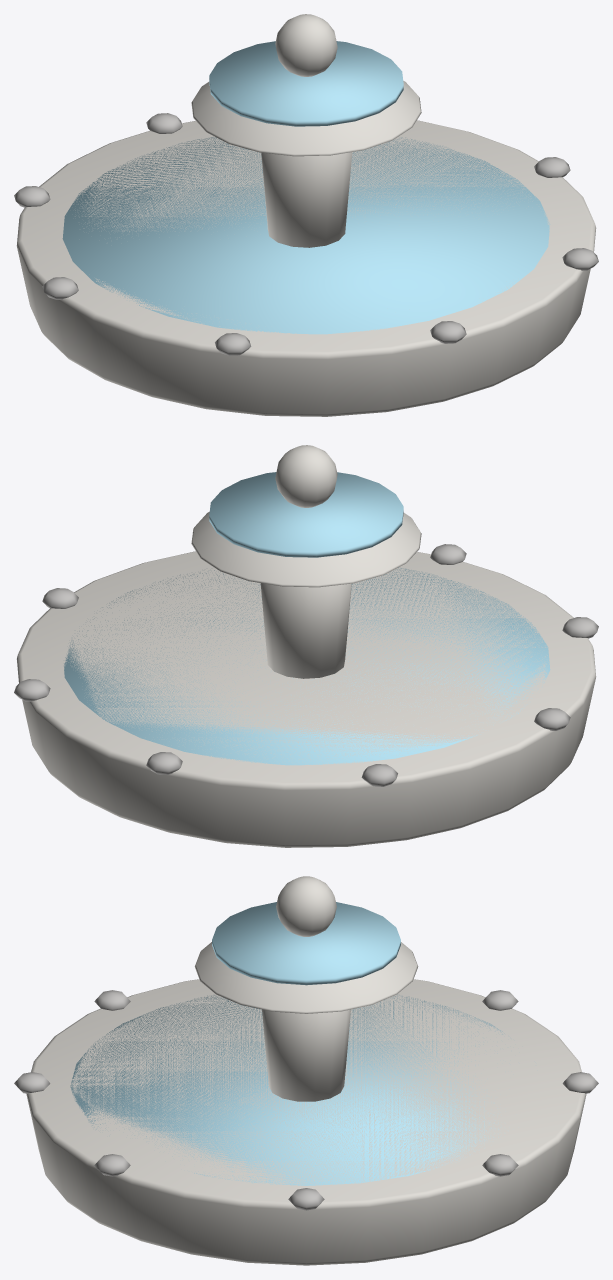
File: fountain.glb
The picture shows the model from 3 angles, top to bottom: view 1: azimuth 30°, elevation 25°; view 2: azimuth 150°, elevation 25°; view 3: azimuth 270°, elevation 25°; orthographic projection. The views are drawn at different scales.
Visible parts, largest first — view 1: fountain; view 2: fountain; view 3: fountain.
Boxes of the visible parts, x1,y1,x2,y2 form: fountain: (14, 14, 598, 416); fountain: (14, 445, 598, 847); fountain: (14, 876, 598, 1265).
Bounding box in the file's own units: 3.84 × 2 × 3.84.
